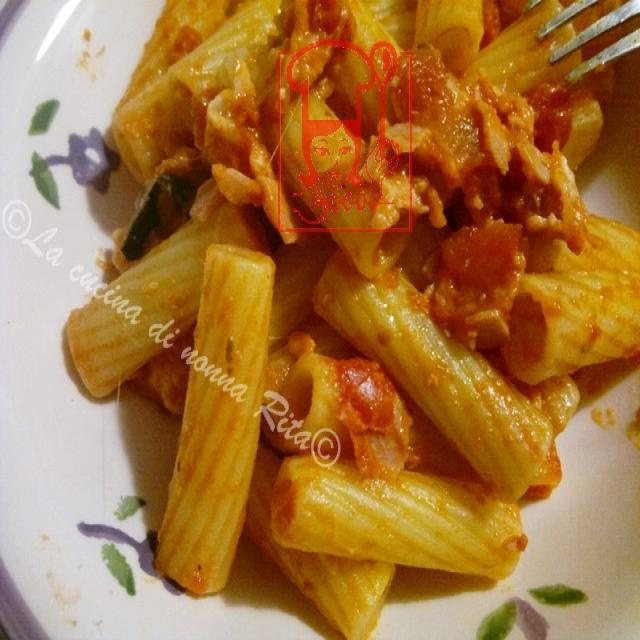Pasta al ragu: (56, 1, 630, 619)
